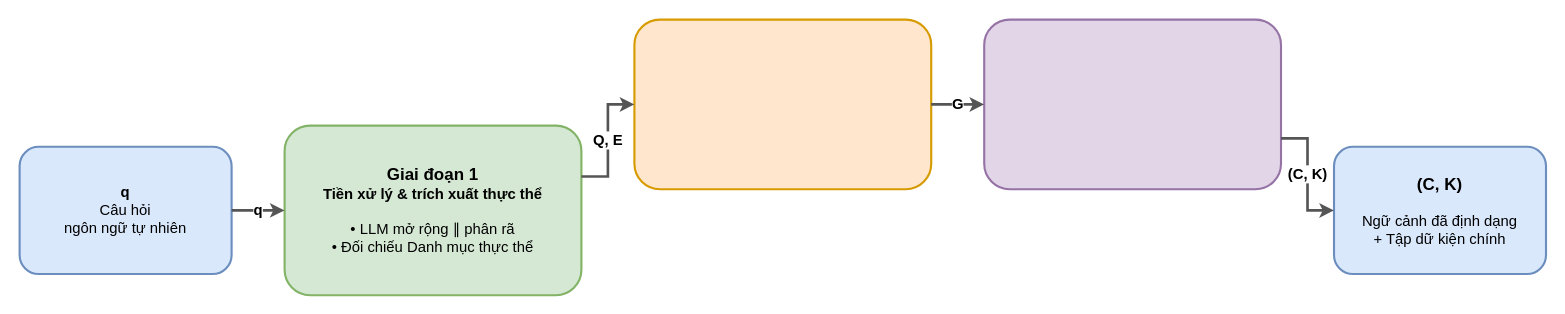
Some shapes in this 1565 by 314 pixel diagram are drawn without their labels. The shapes that lost their labels are listed below. From the top down, each one's box as (x1, y1, x2, y2) in pixels, then its label:
(633, 18, 932, 190): Giai đoạn 2 Truy vấn đa mức độ Bốn mức: ① Node ② Triplet ③ Path ④ Subgraph
(983, 18, 1282, 190): Giai đoạn 3 Tổ chức ngữ cảnh Bộ chuyển đổi định dạng (4 định dạng) + trích K
